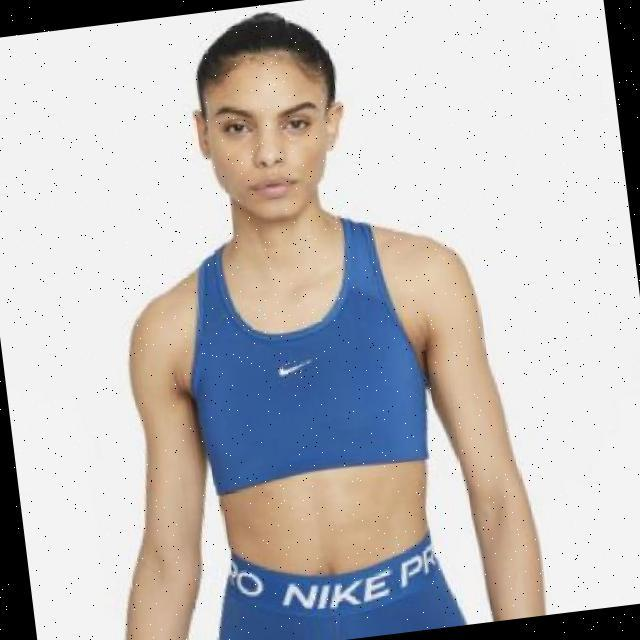Nike: (274, 358, 309, 375)
